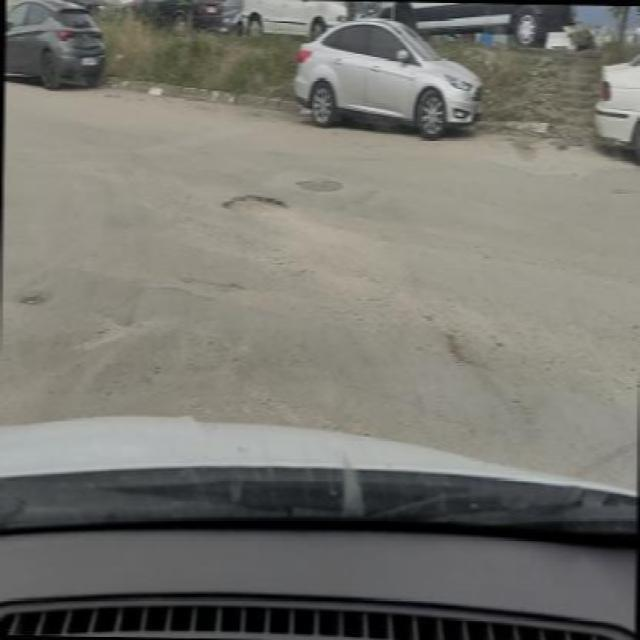Pothole: (443, 313, 506, 376), (219, 192, 289, 216)
